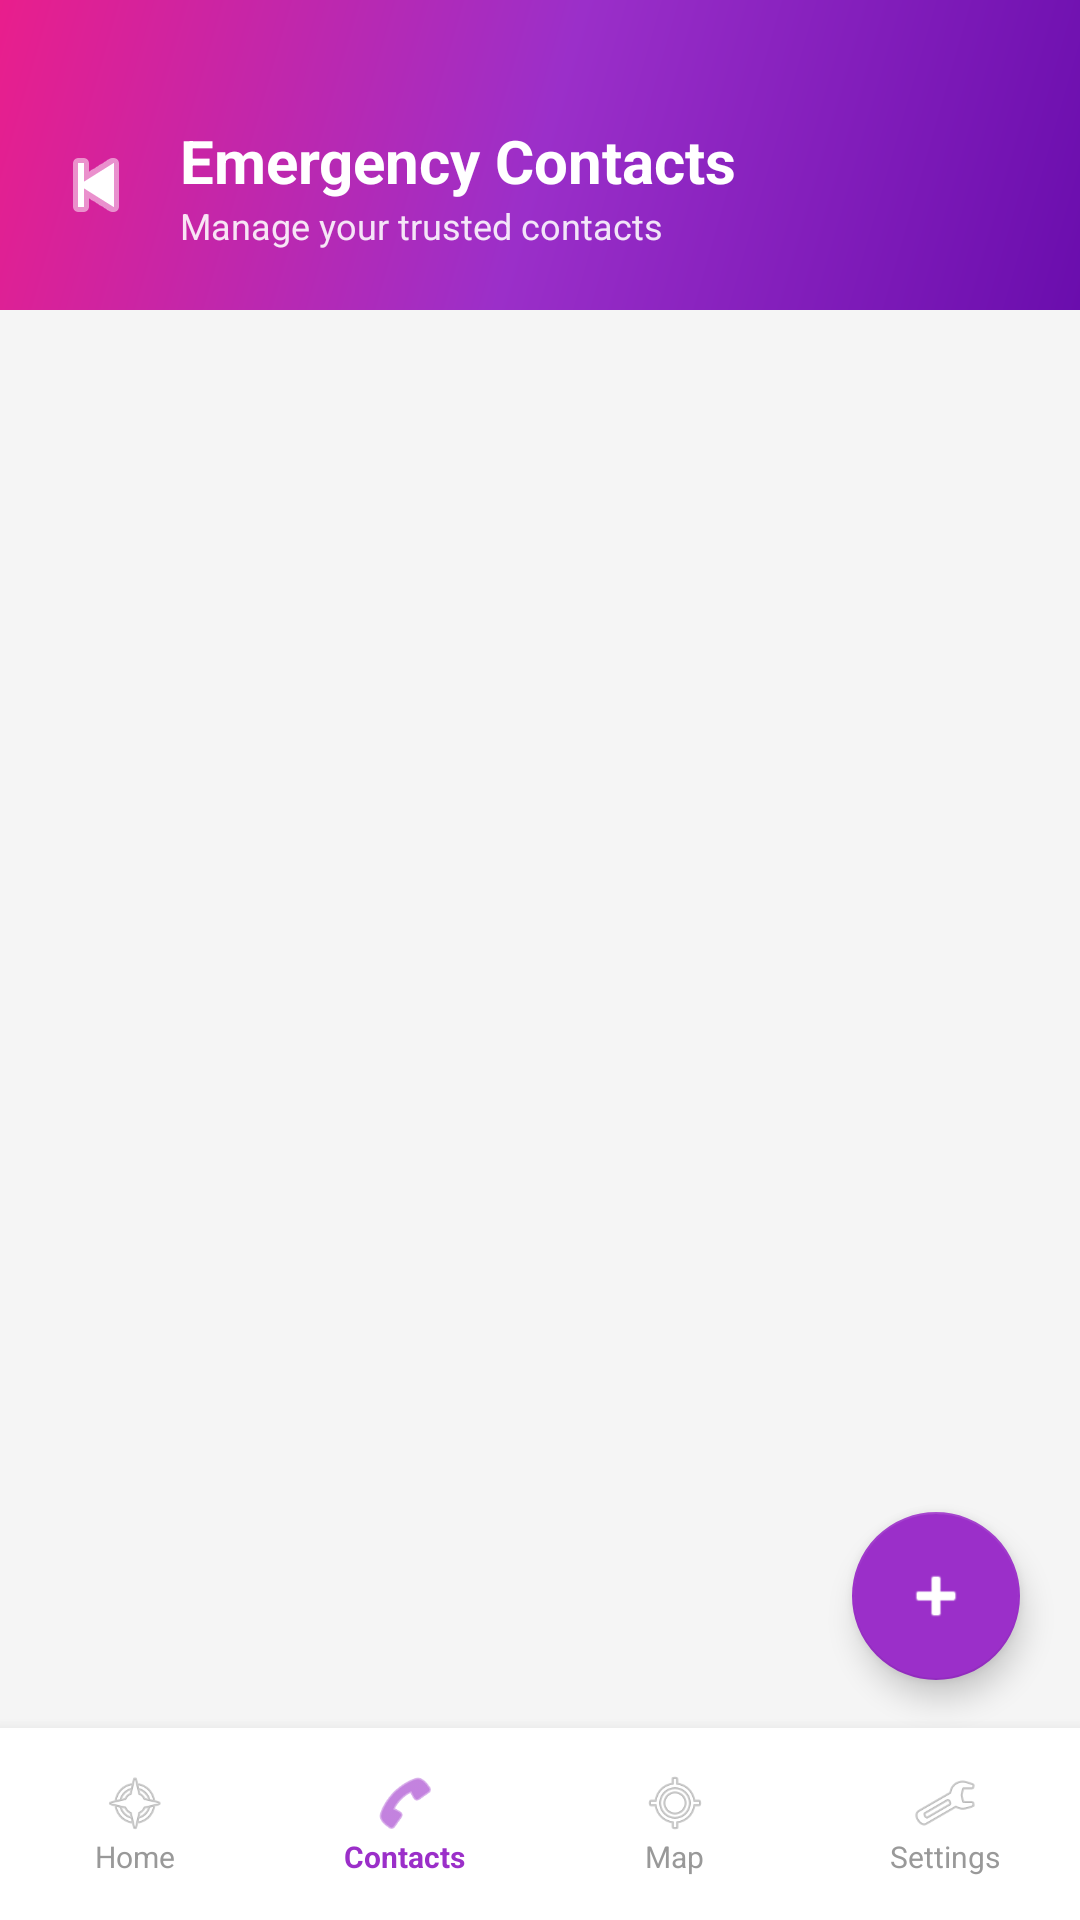

Named icons in this screenshot (1080×1920) and their bounding boxes, (x1,y1,x2,y2):
add: (852,1512,1020,1680)
call: (380,1778,431,1829)
compass: (109,1778,161,1829)
mylocation: (649,1777,701,1829)
previous: (73,158,119,212)
